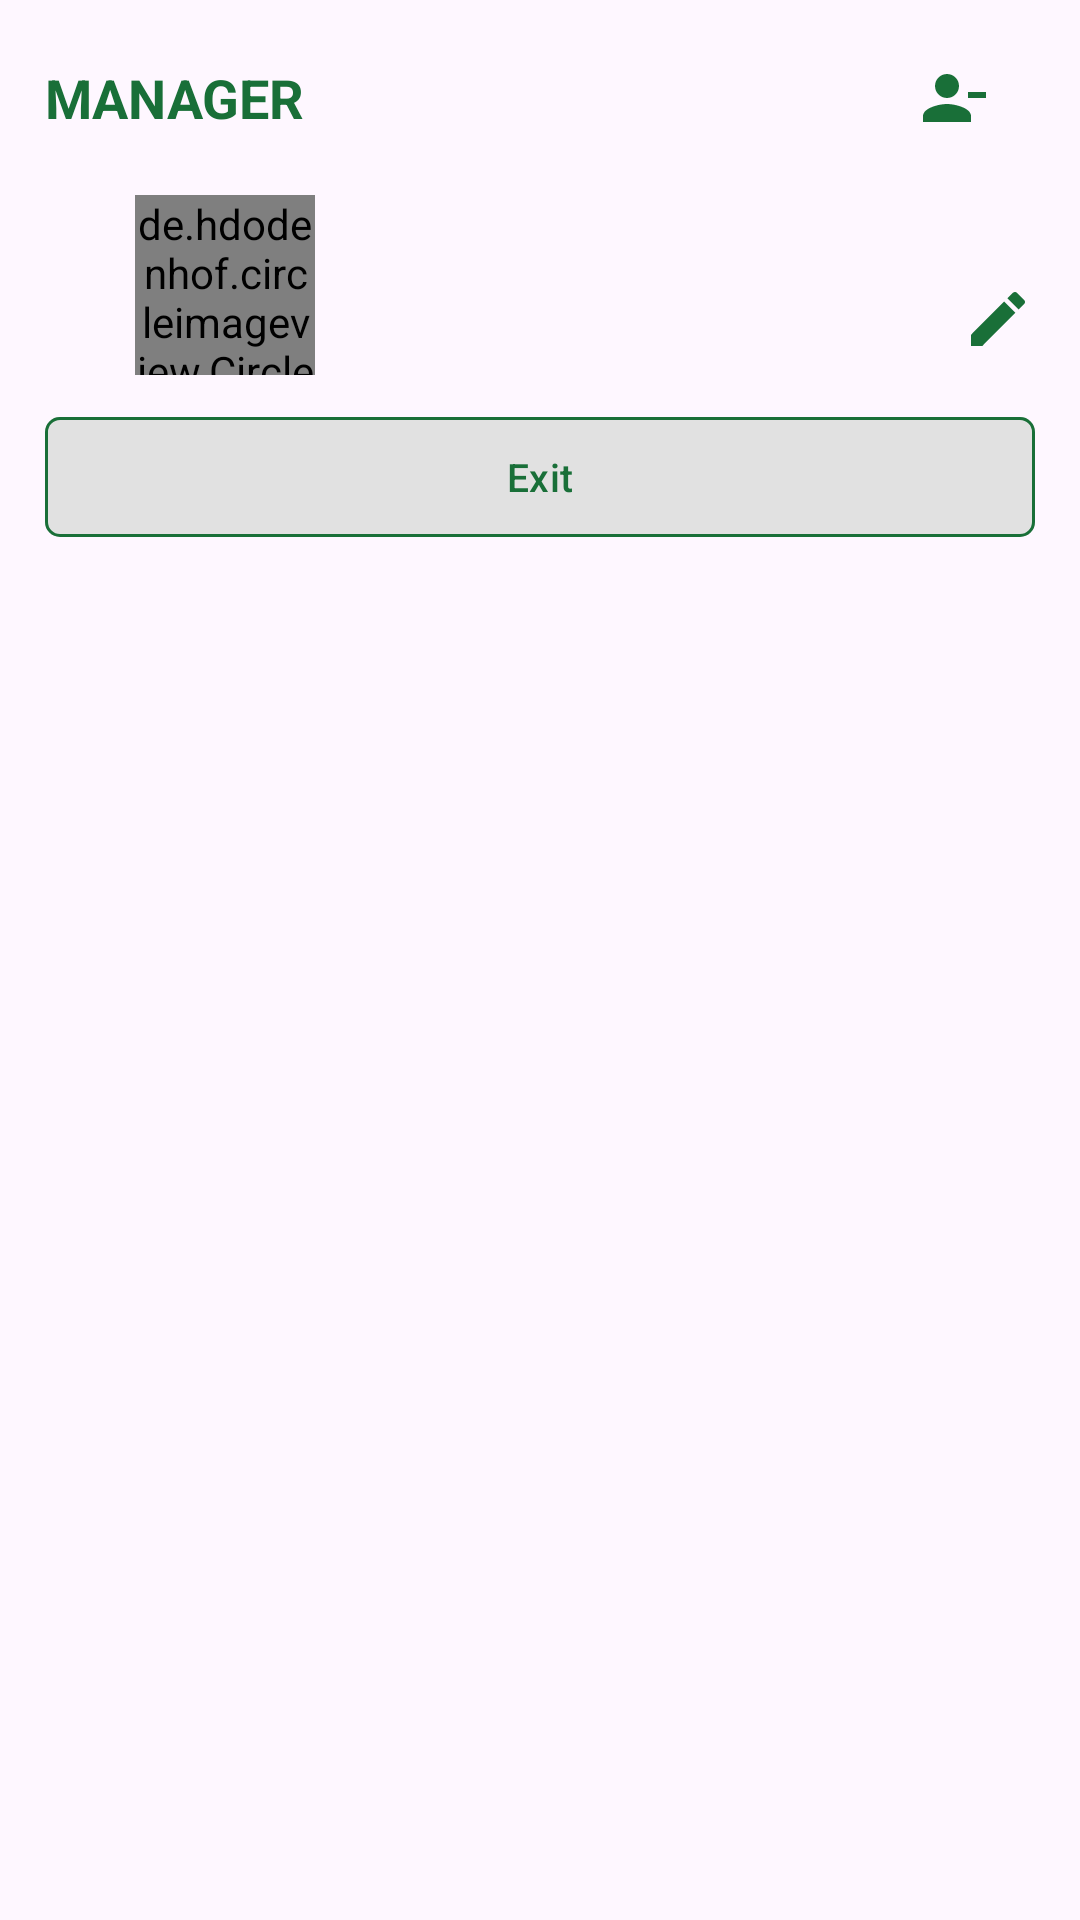

Locate icon controls on the screen. Image size 1080w x 1920h, boxes as (x1, y1, x2, y2).
Edit course: (971, 292, 1025, 346)
Remove: (923, 74, 986, 122)
